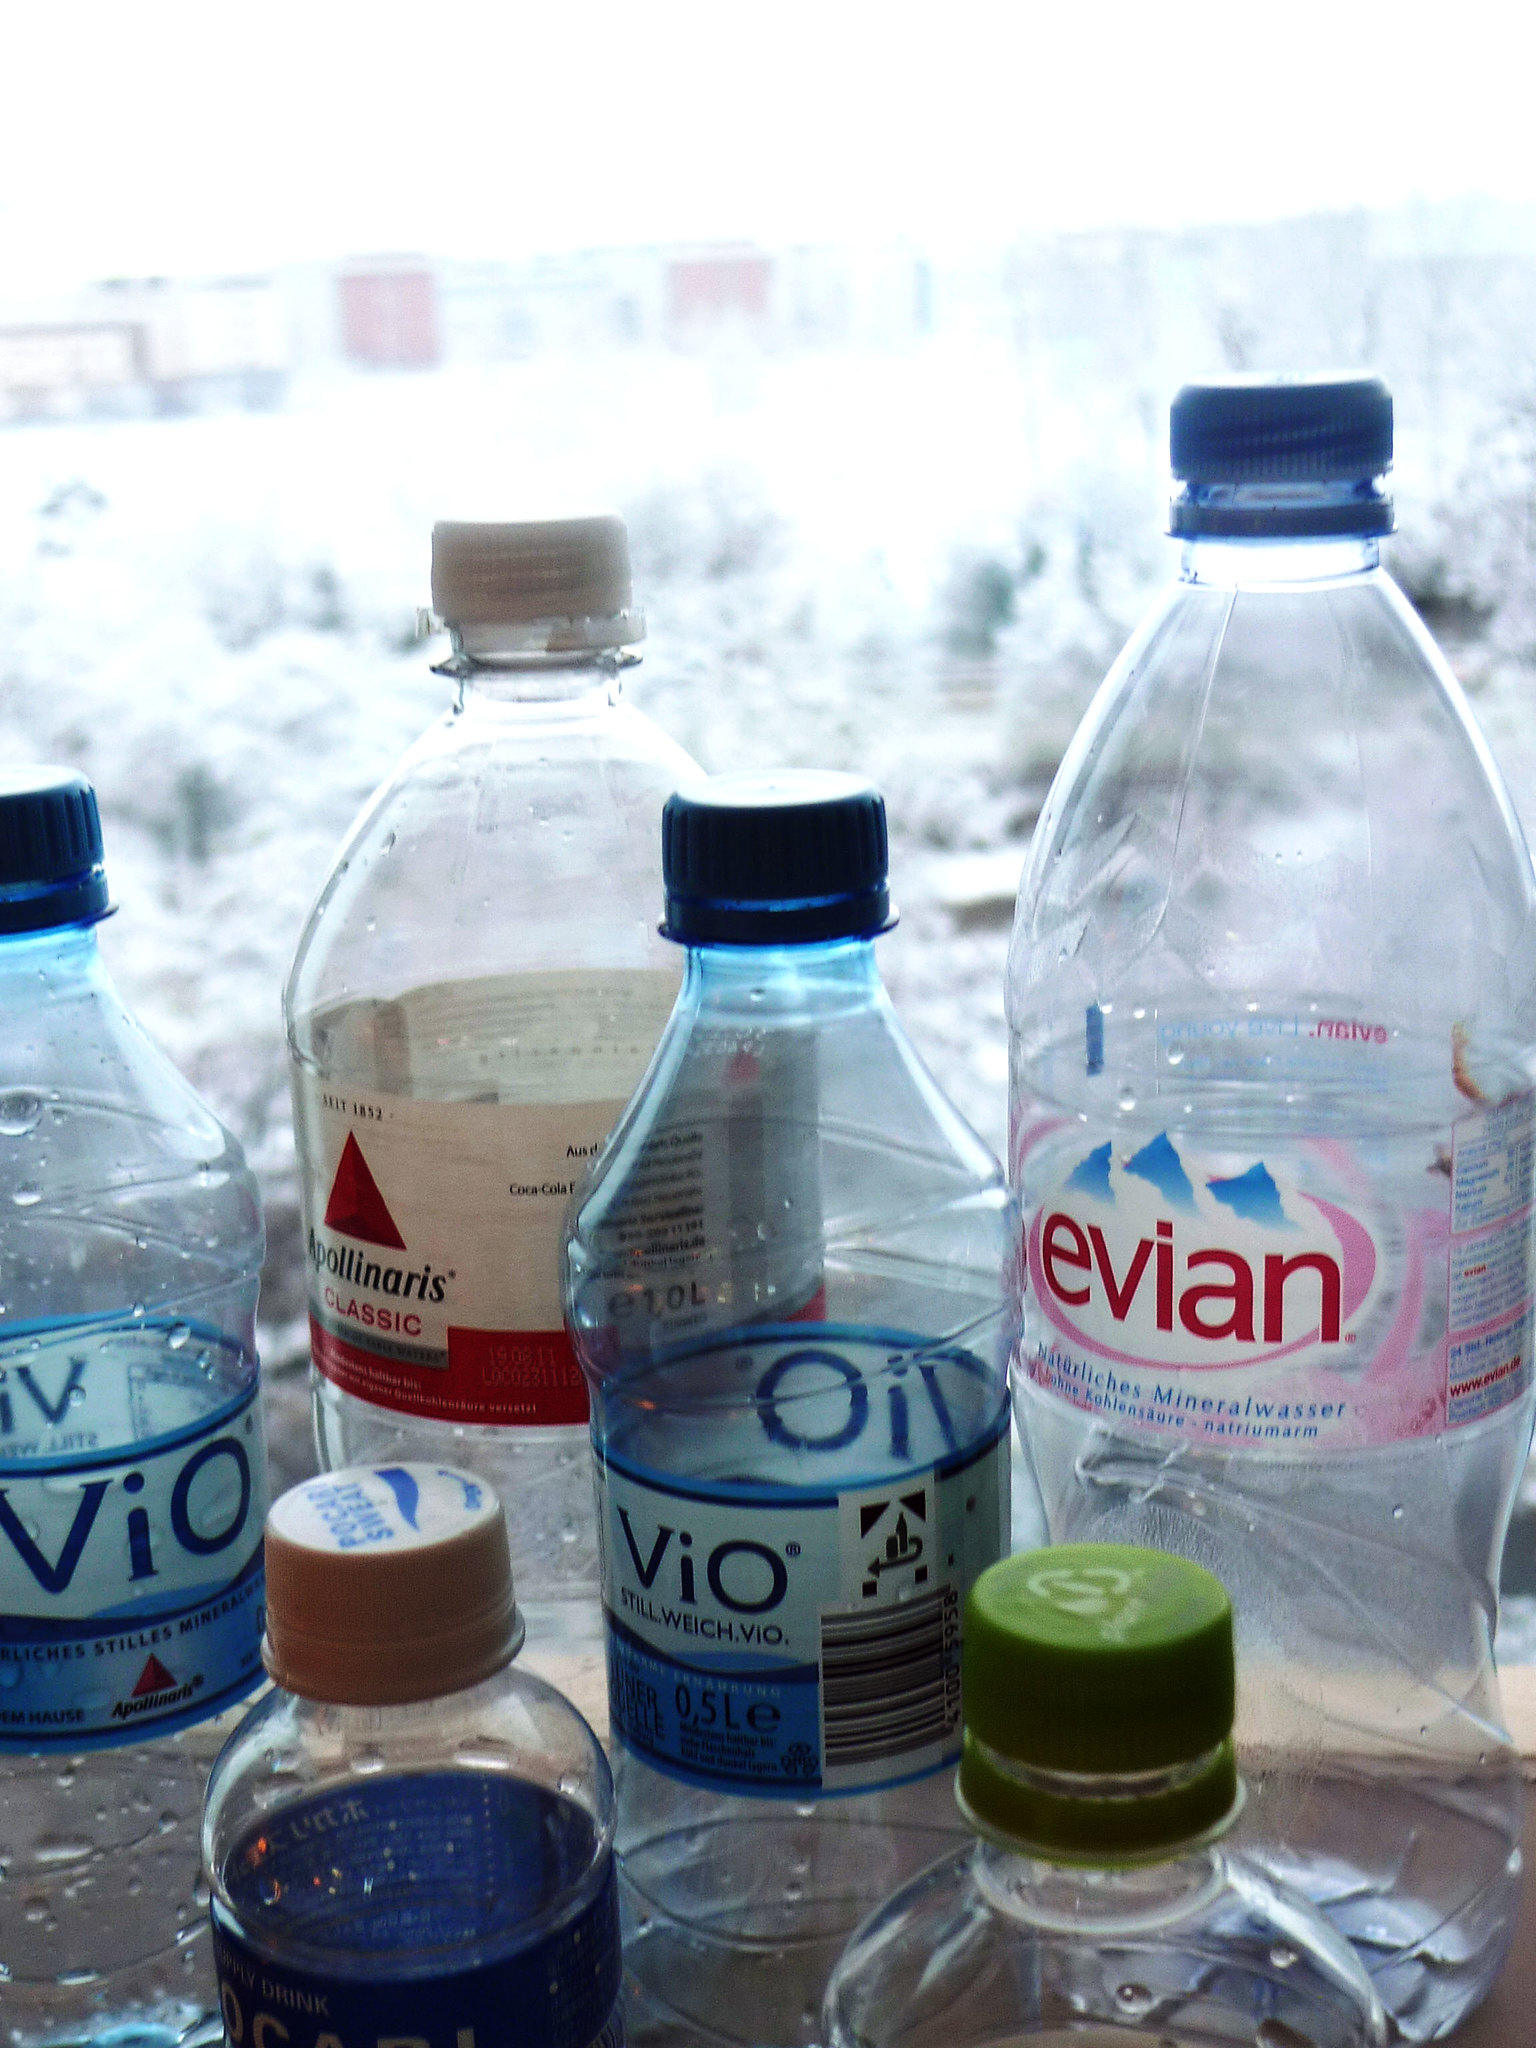bottle: (979, 366, 1536, 1756), (250, 505, 844, 1558), (565, 776, 1005, 1930), (2, 751, 260, 2024), (203, 1513, 645, 2033), (910, 1572, 1347, 2048)
